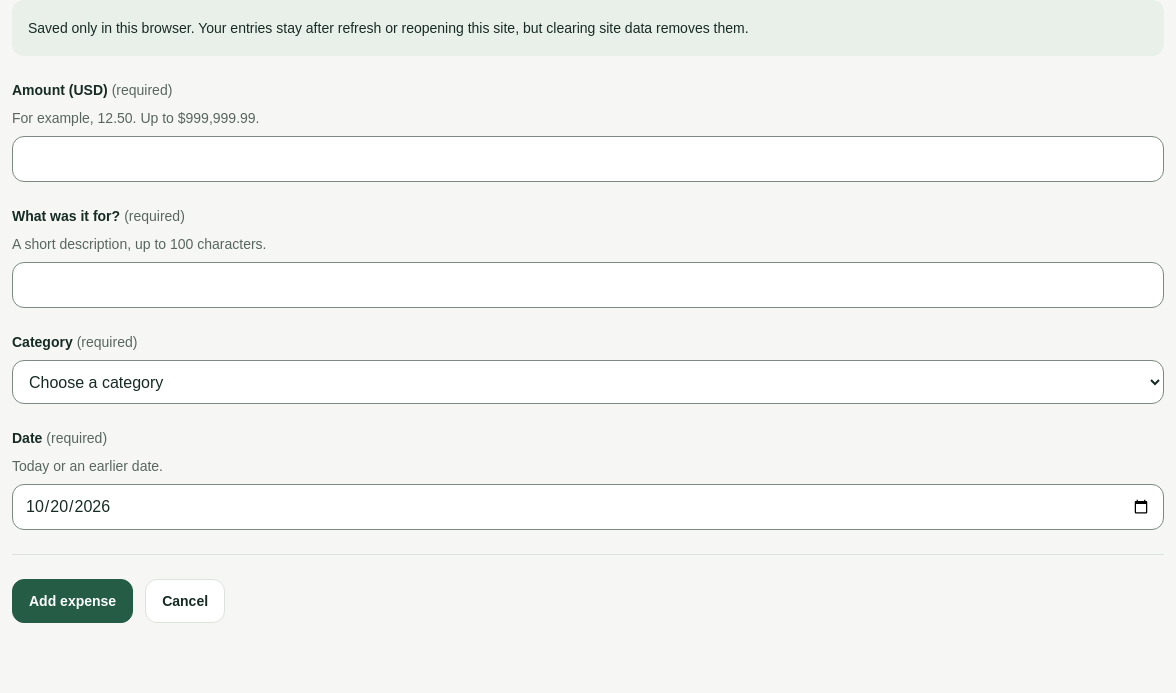
Test case: correcting an error adds one normalized purchase with durable feedback
The image size is (1176, 693).
Submit the form
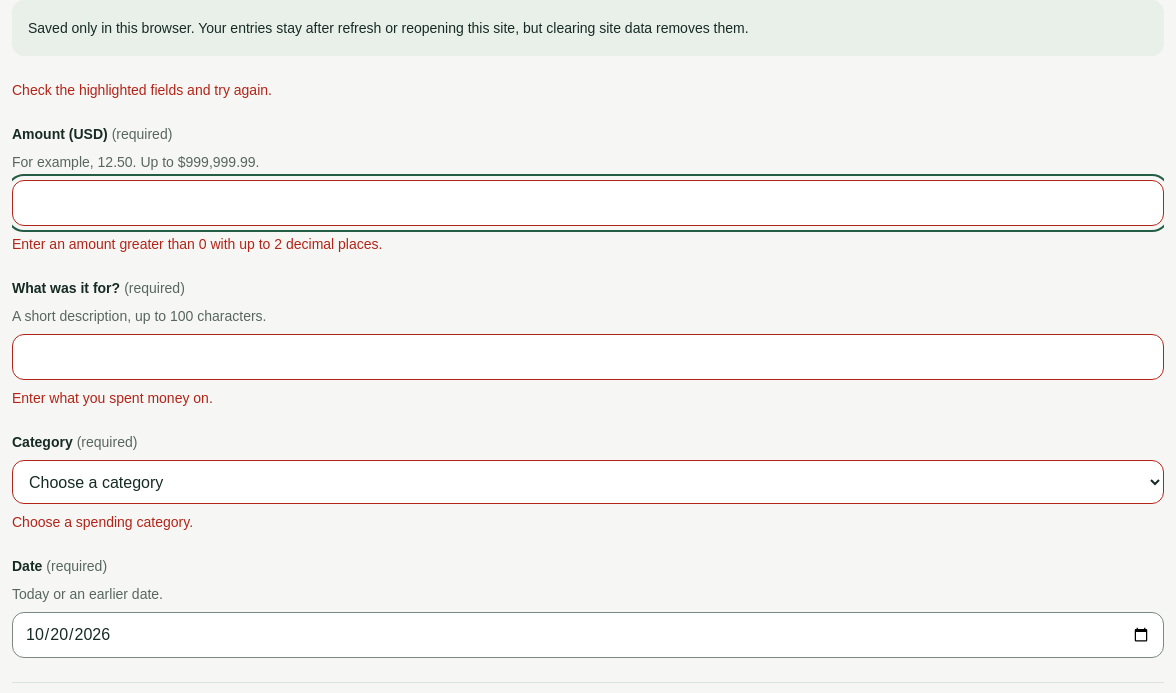
Type "12.34" into the field labelled "Amount (USD)(required)" at (588, 203), box left=12, top=180, right=1164, bottom=226
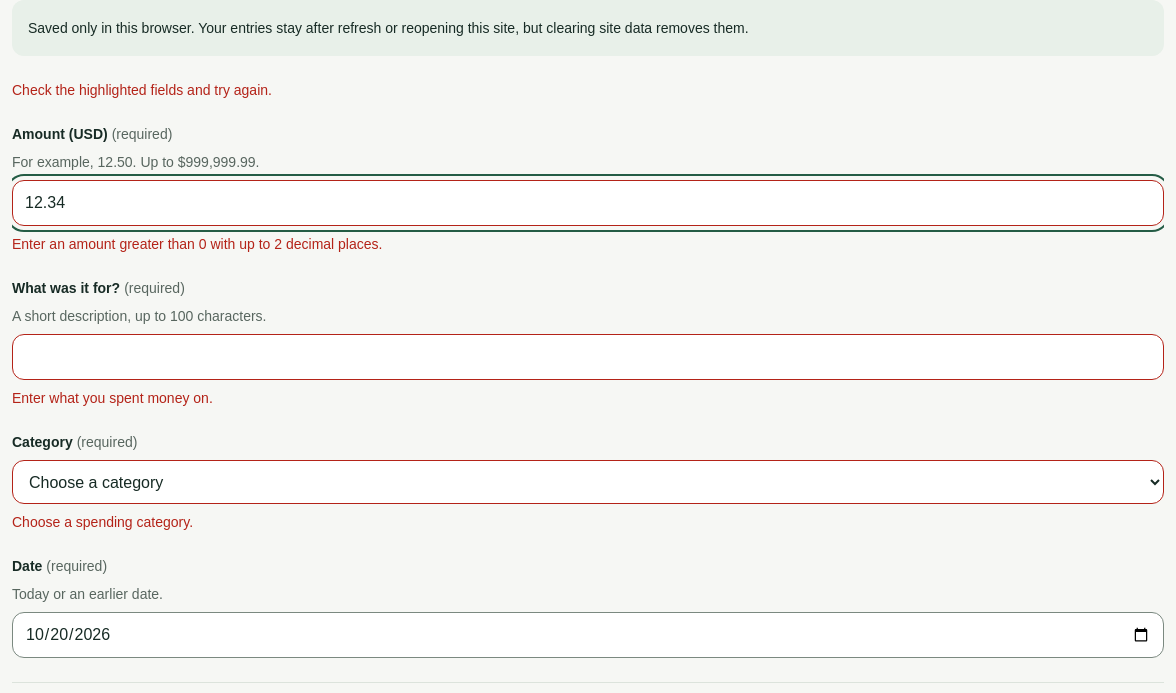
Type "  Lunch  " into the field labelled "What was it for?(required)" at (588, 357), box left=12, top=334, right=1164, bottom=380
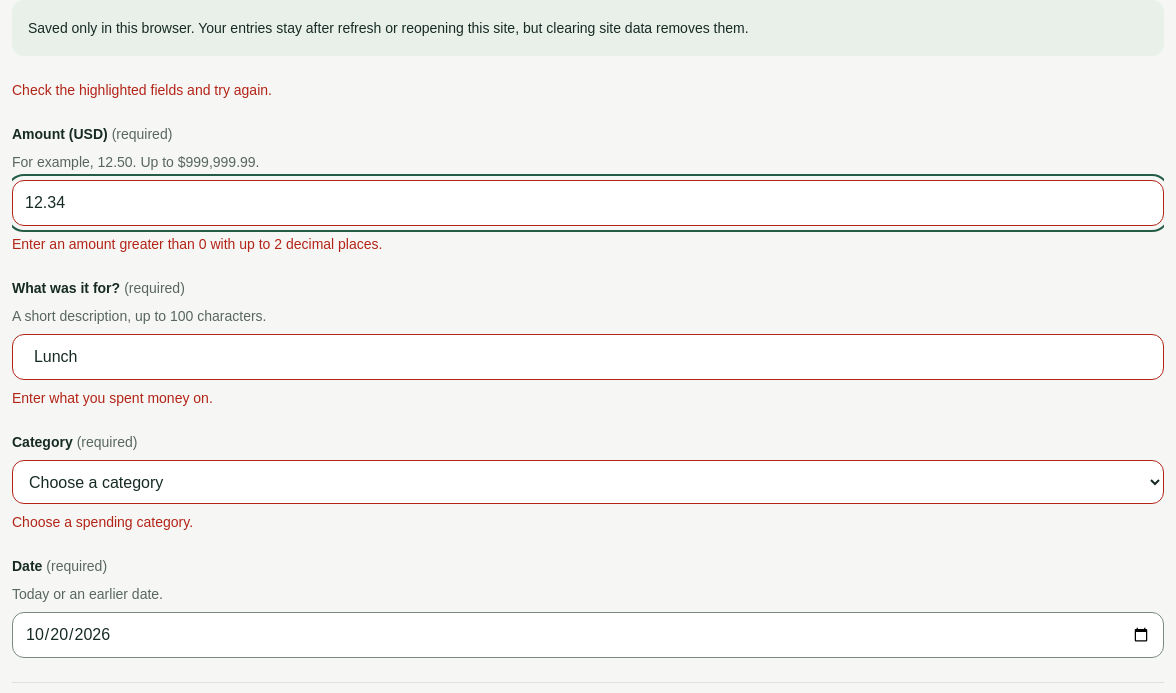
Select "Food & Drink" in the dropdown labelled "Category(required)" at (588, 482), box left=12, top=460, right=1164, bottom=504
(page scrolled)
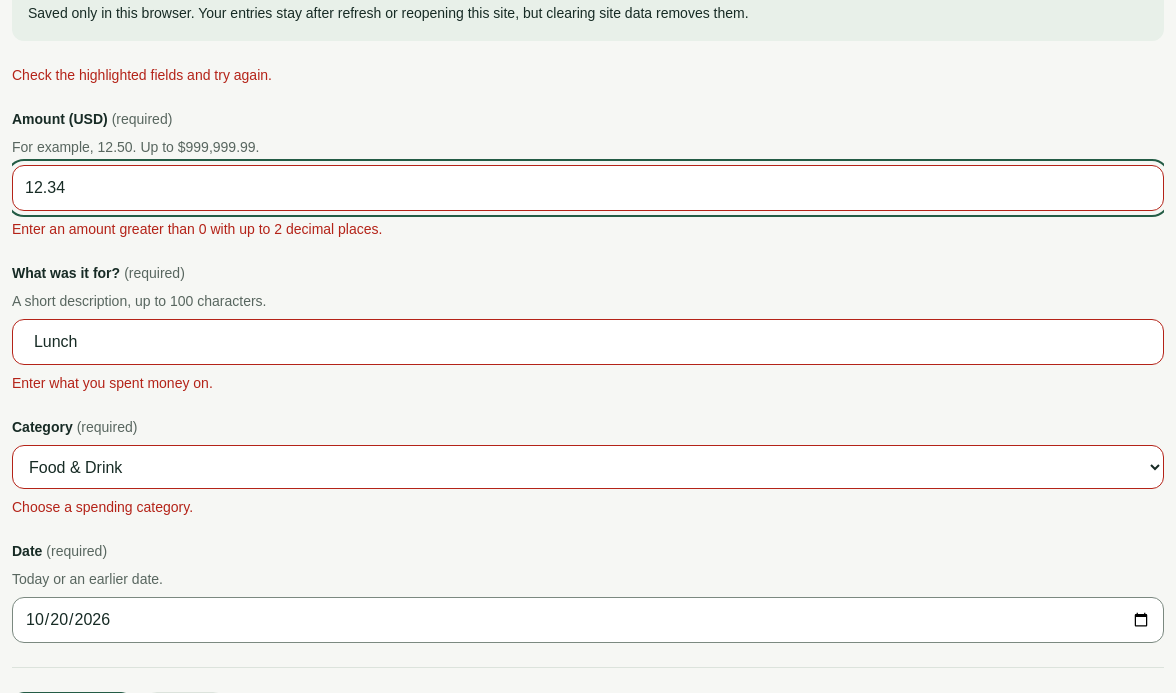
Submit the form
Submit the form
(page scrolled)
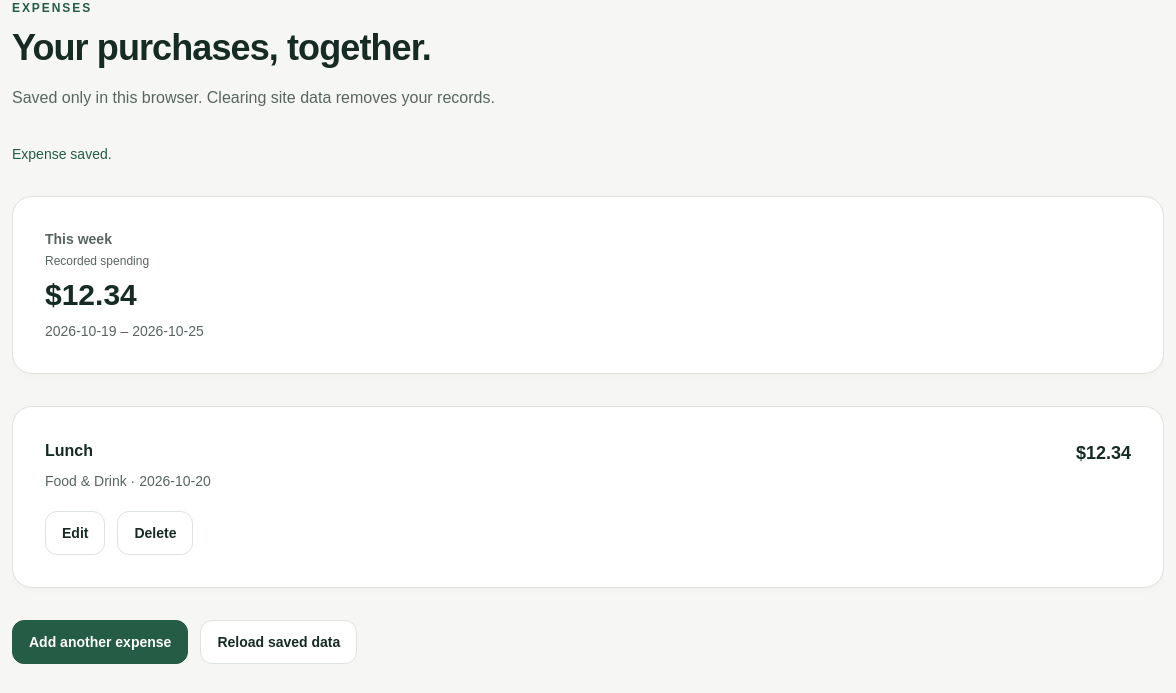
Expected: the text "Saved only in this browser" is shown, left=12, top=89, right=495, bottom=106
Result: the message "Expense saved." is shown at left=12, top=146, right=112, bottom=162
